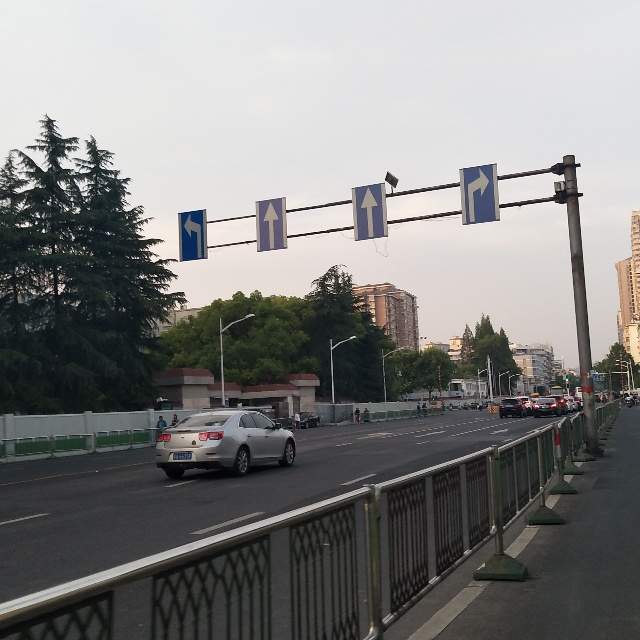left: (178, 214, 208, 259)
right: (460, 170, 498, 222)
straight: (353, 189, 388, 240), (257, 202, 287, 251)
